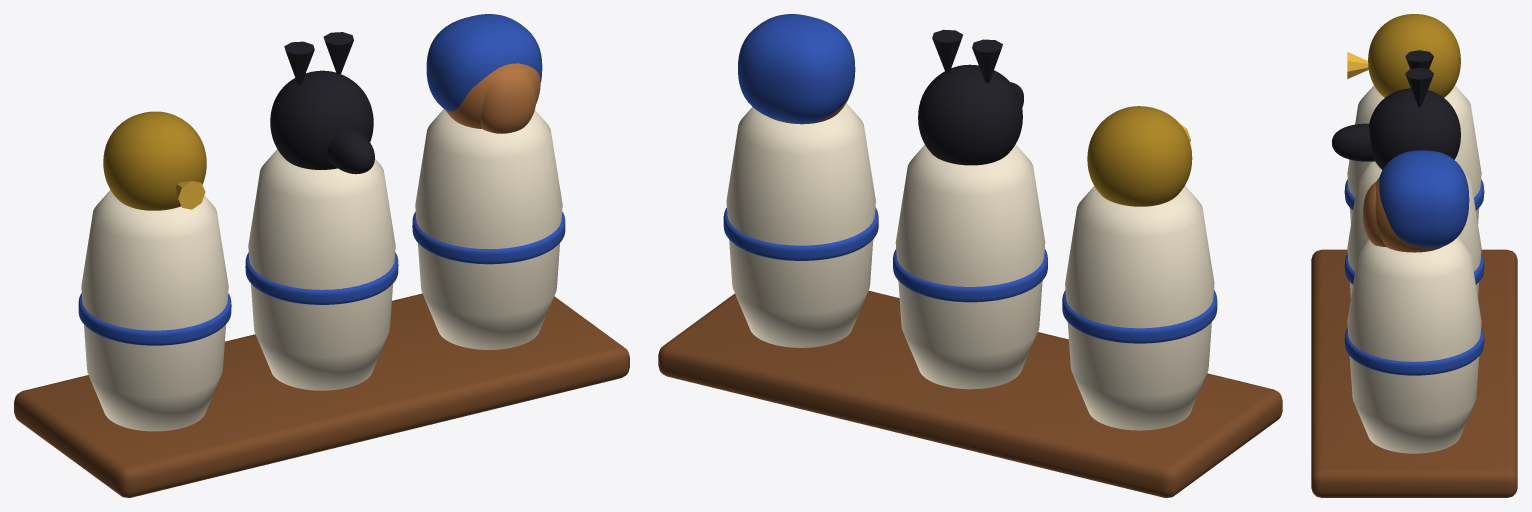
Rendered from canopos.glb.
The picture shows the model from 3 angles, left to right: view 1: azimuth 30°, elevation 25°; view 2: azimuth 150°, elevation 25°; view 3: azimuth 270°, elevation 25°; orthographic projection. The views are drawn at different scales.
Parts seen in each view (by area): view 1: bandeja, vaso0, vaso2, vaso1, tapa0, tapa1, peluca2, cara2, franja0, franja2, franja1, hocico1 (+4 smaller); view 2: bandeja, vaso0, vaso1, vaso2, peluca2, tapa0, tapa1, franja0, franja2, franja1, oreja1-1, oreja11; view 3: bandeja, vaso2, peluca2, tapa0, tapa1, vaso0, vaso1, franja2, hocico1, tapa2, cara2, oreja11 (+4 smaller).
Part boxes in pixels (left/top/right/bottom): bandeja: left=14, top=293, right=629, bottom=497; vaso0: left=81, top=190, right=228, bottom=431; vaso2: left=415, top=109, right=562, bottom=349; vaso1: left=248, top=149, right=395, bottom=390; tapa0: left=103, top=111, right=206, bottom=210; tapa1: left=270, top=70, right=373, bottom=169; peluca2: left=426, top=14, right=542, bottom=111; cara2: left=480, top=69, right=536, bottom=133; franja0: left=78, top=293, right=231, bottom=345; franja2: left=412, top=212, right=565, bottom=264; franja1: left=245, top=252, right=398, bottom=304; hocico1: left=327, top=129, right=374, bottom=174; bandeja: left=658, top=290, right=1282, bottom=497; vaso0: left=1065, top=186, right=1214, bottom=430; vaso1: left=895, top=144, right=1045, bottom=389; vaso2: left=726, top=103, right=875, bottom=347; peluca2: left=738, top=14, right=855, bottom=123; tapa0: left=1087, top=106, right=1192, bottom=206; tapa1: left=918, top=64, right=1022, bottom=165; franja0: left=1062, top=290, right=1217, bottom=343; franja2: left=723, top=207, right=878, bottom=260; franja1: left=893, top=249, right=1047, bottom=302; oreja1-1: left=972, top=39, right=1002, bottom=83; oreja11: left=932, top=29, right=962, bottom=72; bandeja: left=1311, top=249, right=1517, bottom=497; vaso2: left=1347, top=237, right=1481, bottom=453; peluca2: left=1379, top=150, right=1469, bottom=248; tapa0: left=1368, top=14, right=1460, bottom=97; tapa1: left=1369, top=88, right=1460, bottom=169; vaso0: left=1347, top=85, right=1481, bottom=223; vaso1: left=1347, top=159, right=1481, bottom=297; franja2: left=1344, top=328, right=1484, bottom=375; hocico1: left=1332, top=123, right=1374, bottom=161; tapa2: left=1375, top=178, right=1441, bottom=252; cara2: left=1363, top=182, right=1385, bottom=246; oreja11: left=1405, top=67, right=1433, bottom=107.
Bounding box in the file's own units: 0.52 × 0.345 × 0.2.
